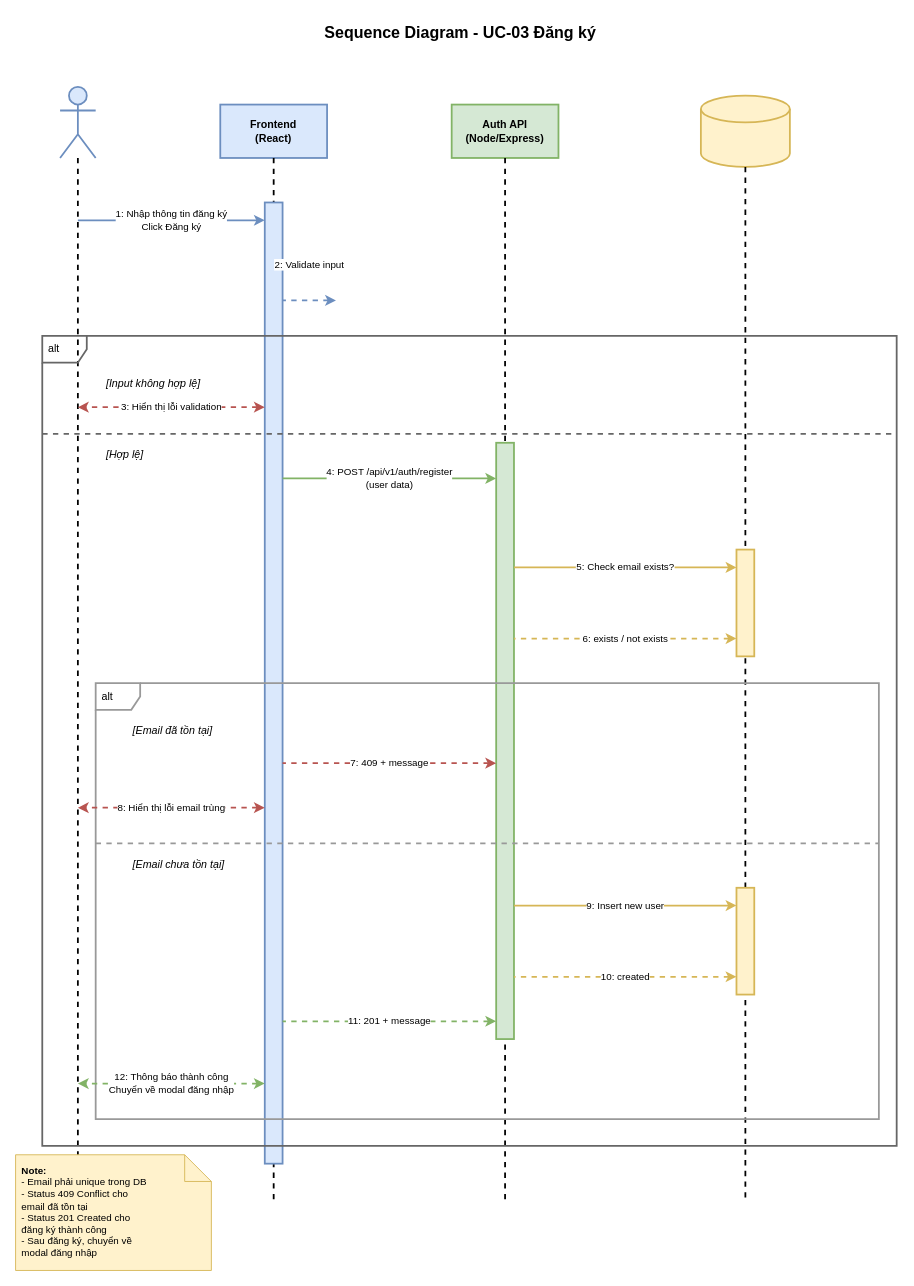
The diagram is 914 pixels wide and 1286 high, and some of its shapes have lost their labels. The shapes that lost their labels are listed below. From the top down, each one's centre as x and y in pixels, then its label:
point 77,121: Guest
point 745,130: MongoDB
